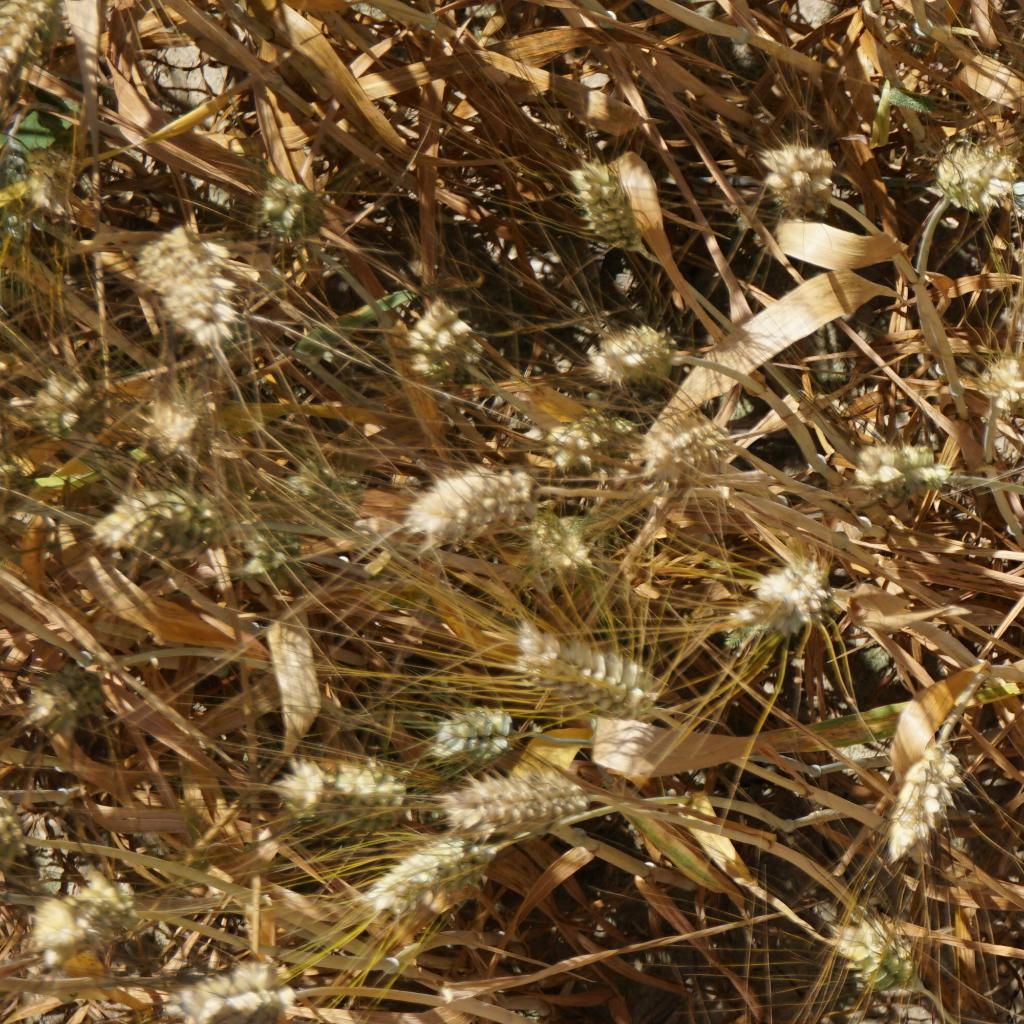0-0: (504, 618, 684, 719), (709, 556, 856, 656), (129, 230, 231, 341), (412, 453, 524, 547), (169, 944, 297, 1024), (271, 749, 406, 820), (410, 696, 528, 777), (369, 832, 487, 912), (28, 868, 132, 958), (874, 739, 967, 837), (561, 150, 646, 253), (929, 133, 1024, 218), (843, 435, 963, 502), (268, 456, 361, 539), (442, 780, 594, 830), (757, 136, 842, 219), (248, 176, 335, 257), (836, 914, 930, 988), (640, 406, 729, 484), (543, 406, 628, 479), (395, 294, 476, 368), (157, 477, 234, 550), (592, 320, 674, 385), (16, 659, 93, 726), (137, 380, 211, 448), (0, 115, 41, 233), (93, 475, 159, 548), (0, 4, 67, 75), (528, 497, 594, 566), (32, 364, 92, 433), (237, 529, 304, 580), (965, 355, 1024, 409)
